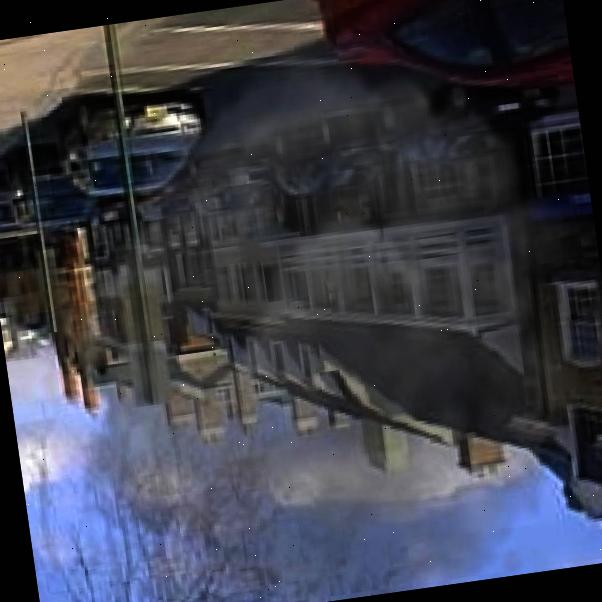smoke: (8, 15, 602, 602)
